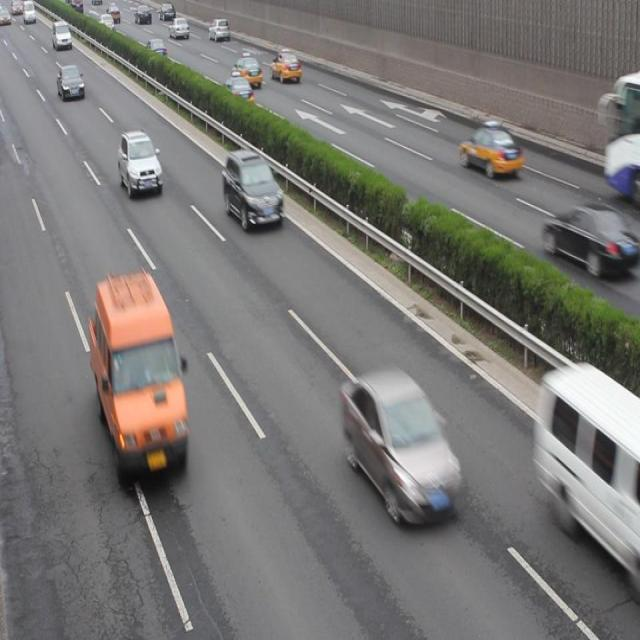car: (340, 364, 460, 520), (542, 200, 640, 280), (221, 150, 284, 228), (456, 120, 519, 176), (117, 132, 163, 196), (271, 52, 302, 84), (223, 73, 254, 105), (232, 54, 262, 87), (58, 66, 84, 102), (144, 38, 167, 60), (208, 19, 229, 43), (168, 18, 190, 38)
truck: (533, 360, 640, 583), (88, 276, 189, 474), (52, 22, 72, 48)
van: (601, 80, 640, 200)
